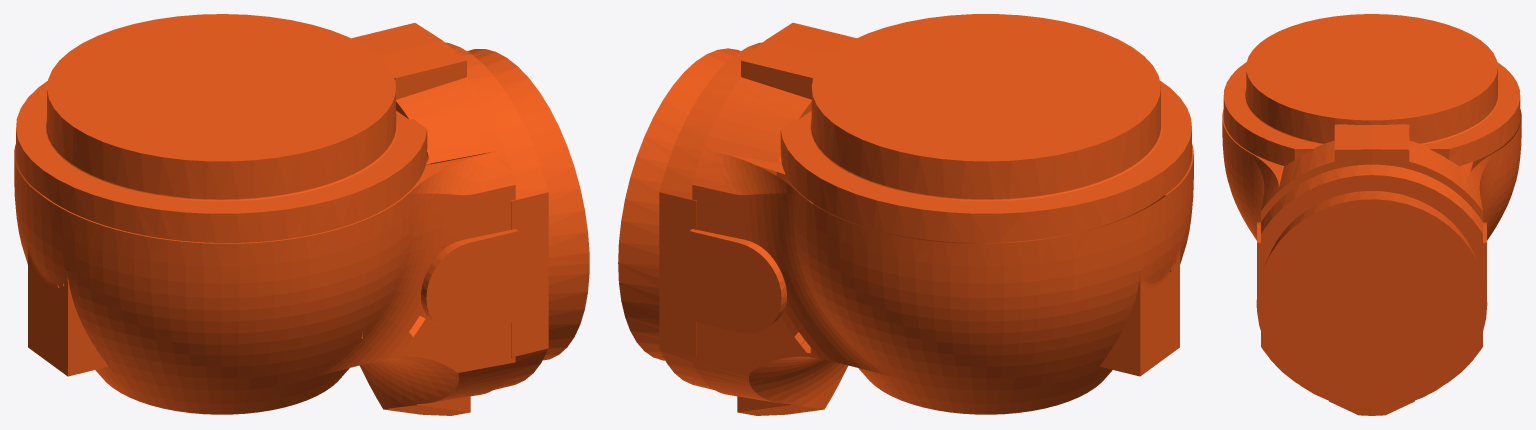
3 renders of one model, left to right at view 1: azimuth 30°, elevation 25°; view 2: azimuth 150°, elevation 25°; view 3: azimuth 270°, elevation 25°, orthographic. The views are drawn at different scales.
Visible parts, largest first — view 1: skpF231 (×2); view 2: skpF231 (×2); view 3: skpF231 (×2).
Part boxes in pixels (x1,y1,x2,y2): skpF231 (×2): [14, 14, 589, 415]; skpF231 (×2): [618, 14, 1193, 415]; skpF231 (×2): [1222, 14, 1521, 415].
Bounding box in the file's own units: 12.3 × 9.45 × 9.44.
